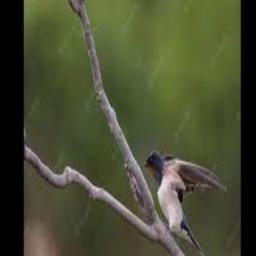Swallow: (142, 149, 226, 256)
